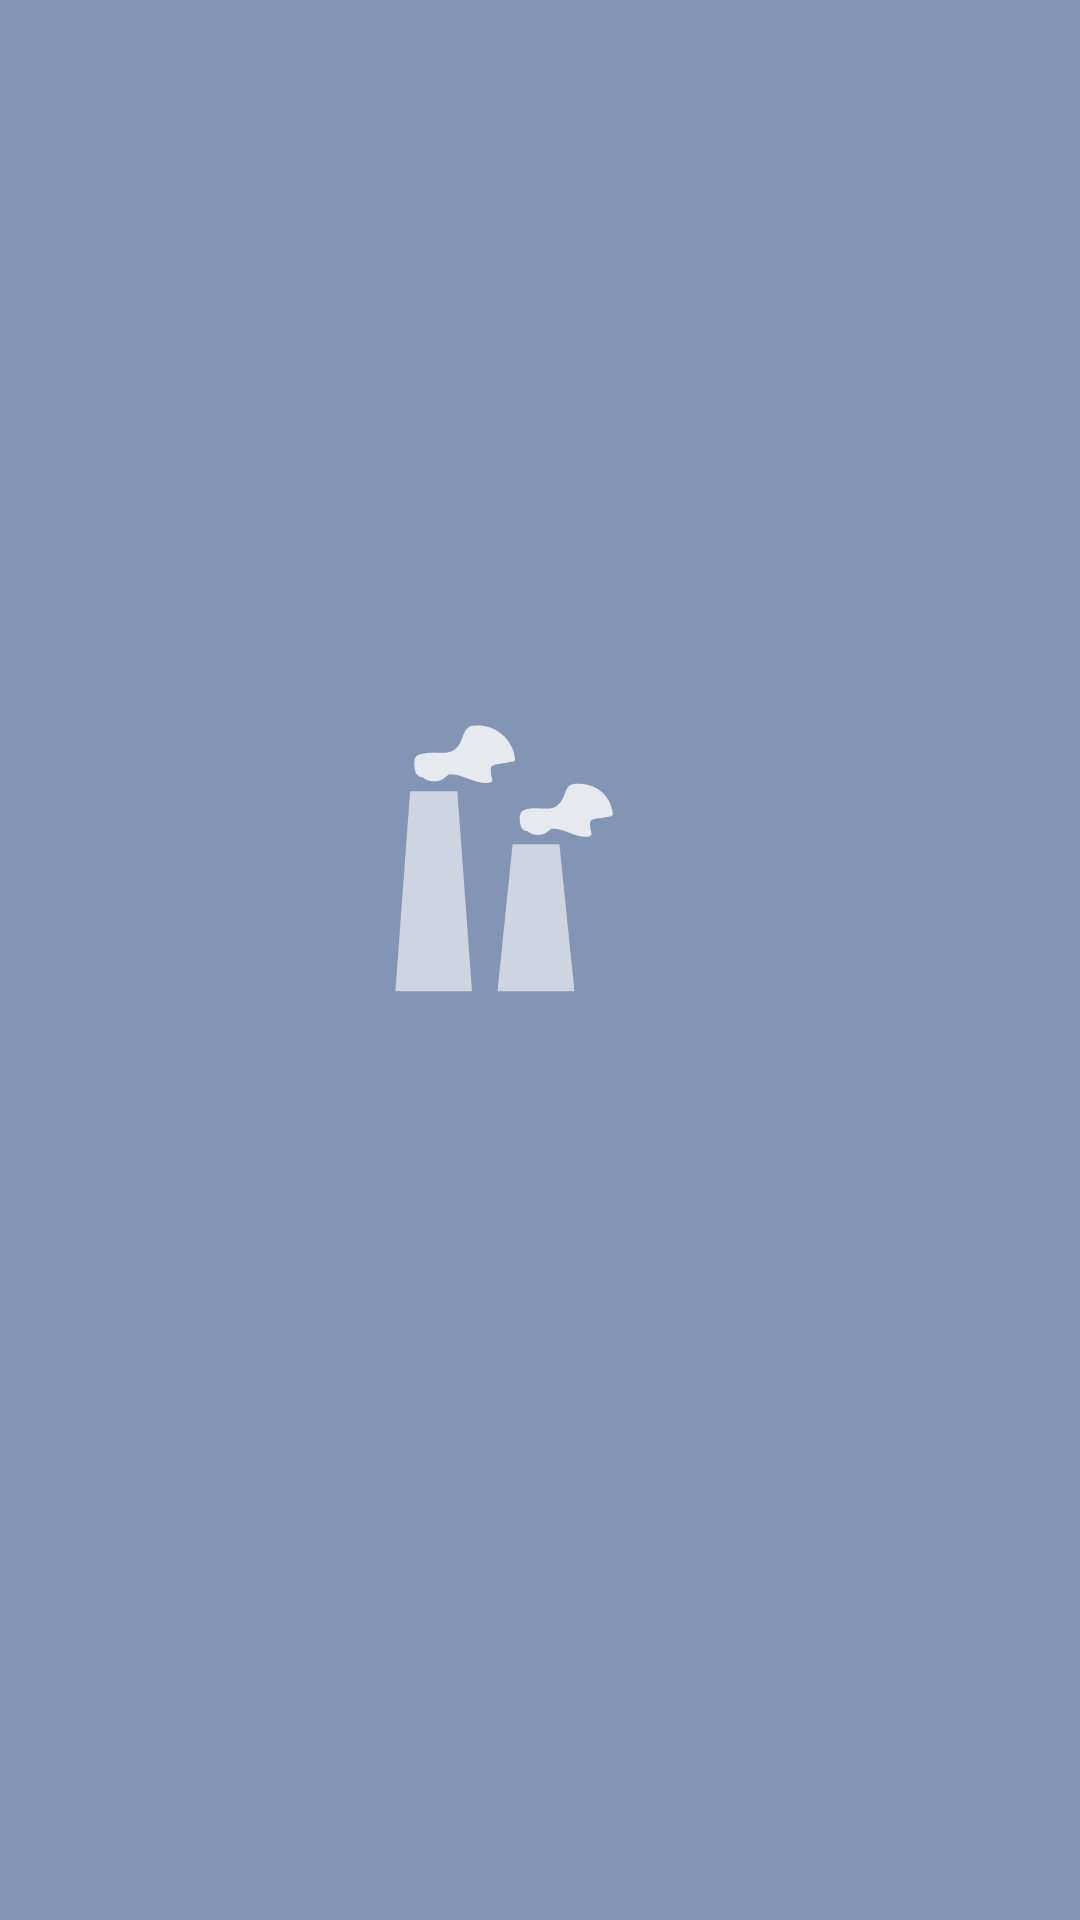

Icons on this 1080px×1920px Android screen, each with the point to tap as point (x, y):
factory: point (504, 858)
